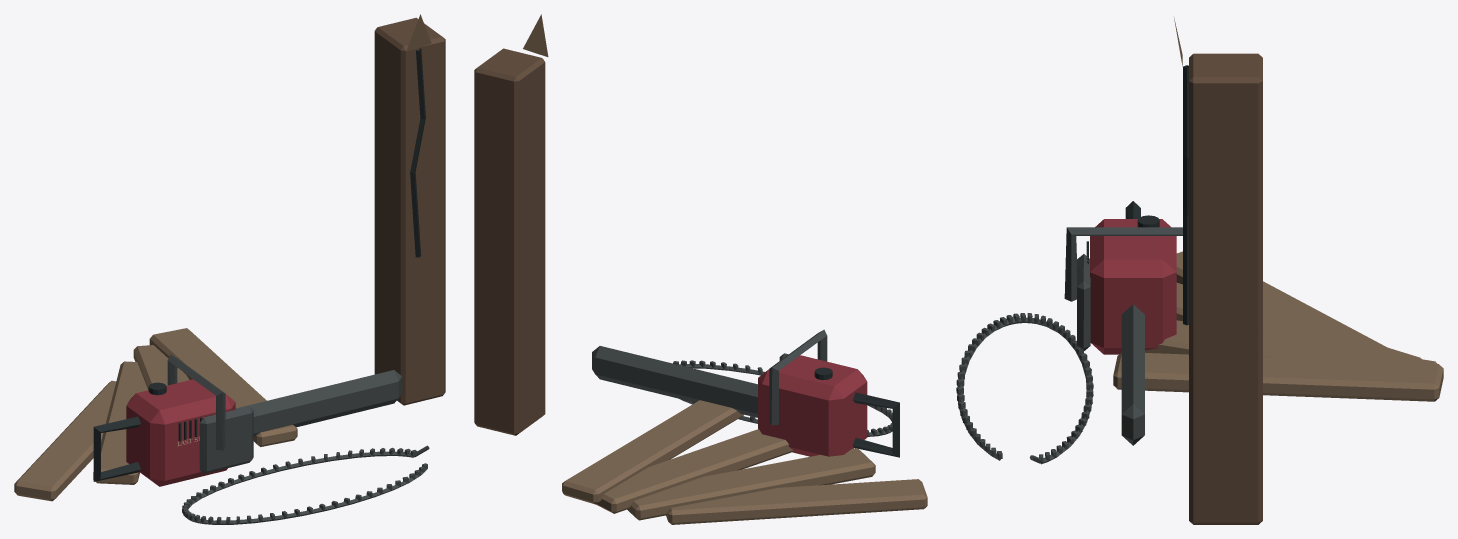
File: broken_chainsaw.glb
3 renders of one model, left to right at view 1: azimuth 30°, elevation 25°; view 2: azimuth 150°, elevation 25°; view 3: azimuth 270°, elevation 25°, orthographic. The views are drawn at different scales.
Parts seen in each view (by area): view 1: broken_chainsaw; view 2: broken_chainsaw; view 3: broken_chainsaw.
Boxes of the visible parts, <box> form: broken_chainsaw: <box>14,14,445,524</box>; broken_chainsaw: <box>474,14,927,524</box>; broken_chainsaw: <box>956,17,1443,524</box>.
Bounding box in the file's own units: 2 × 1.76 × 1.58.
